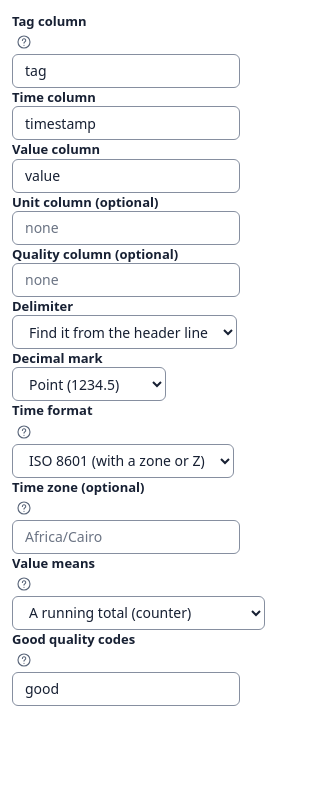
Test: ImportProfileFields › shows the period and the stamp only for an interval reading, with no stamp chosen for it
This screenshot has width=332, height=801.
Check: the field labelled "Period in seconds" is not shown
Check: the field labelled "The time marks the" is not shown
Select "A total for one period (interval)" in the dropdown labelled "Value means" at (138, 613), box [12,596,265,630]
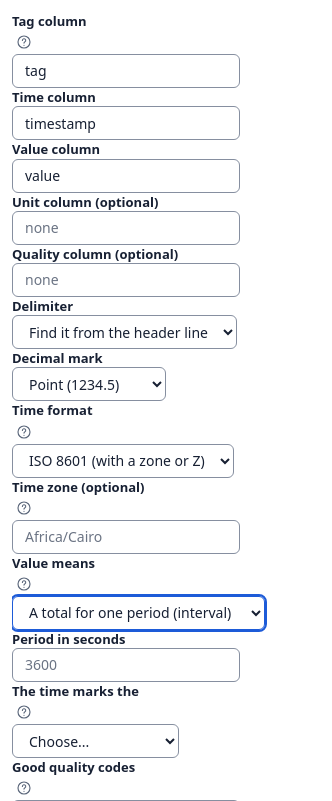
Check: the field labelled "Period in seconds" is empty, box [12,648,240,682]
Check: the dropdown labelled "The time marks the" shows "Choose...", box [12,724,179,758]
Select "A value at one moment (power)" in the dropdown labelled "Value means" at (138, 613), box [12,596,265,630]
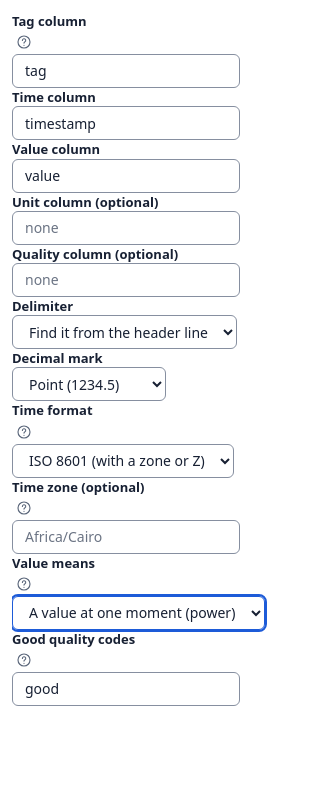
Check: the label labelled "Period in seconds" is gone
